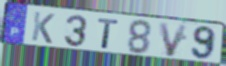3: (62, 14, 88, 48)
8: (126, 18, 154, 56)
9: (191, 25, 218, 62)
K: (30, 11, 56, 46)
T: (96, 17, 121, 50)
V: (157, 21, 190, 58)
